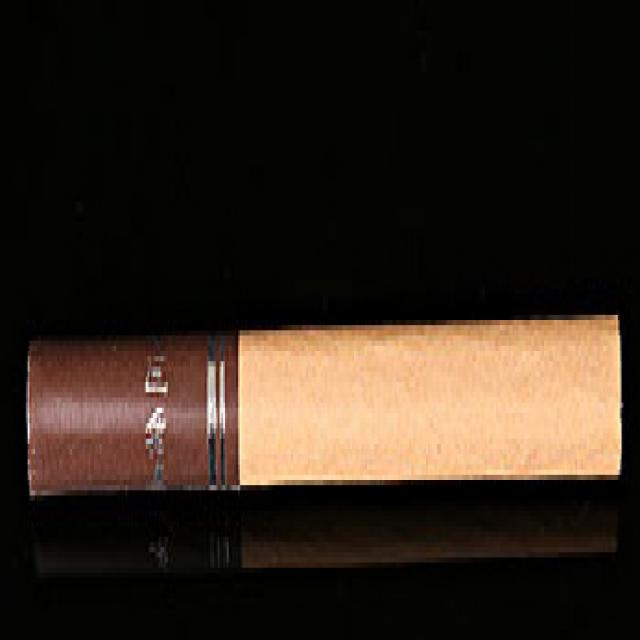smoking: (27, 317, 623, 498)
